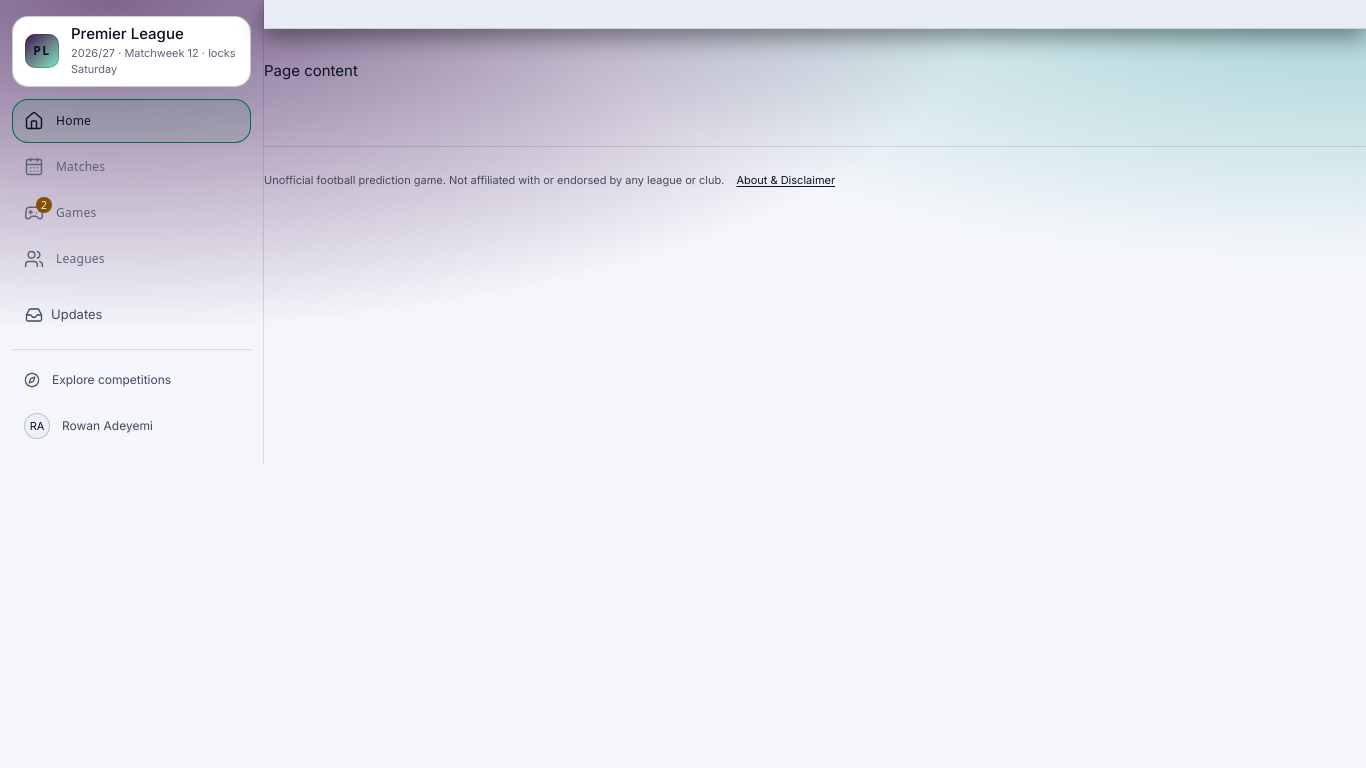
it: the Action Centre › says the inbox is empty once the server has said so
Click the button "Updates" at (132, 315), box 12,293 -> 251,337
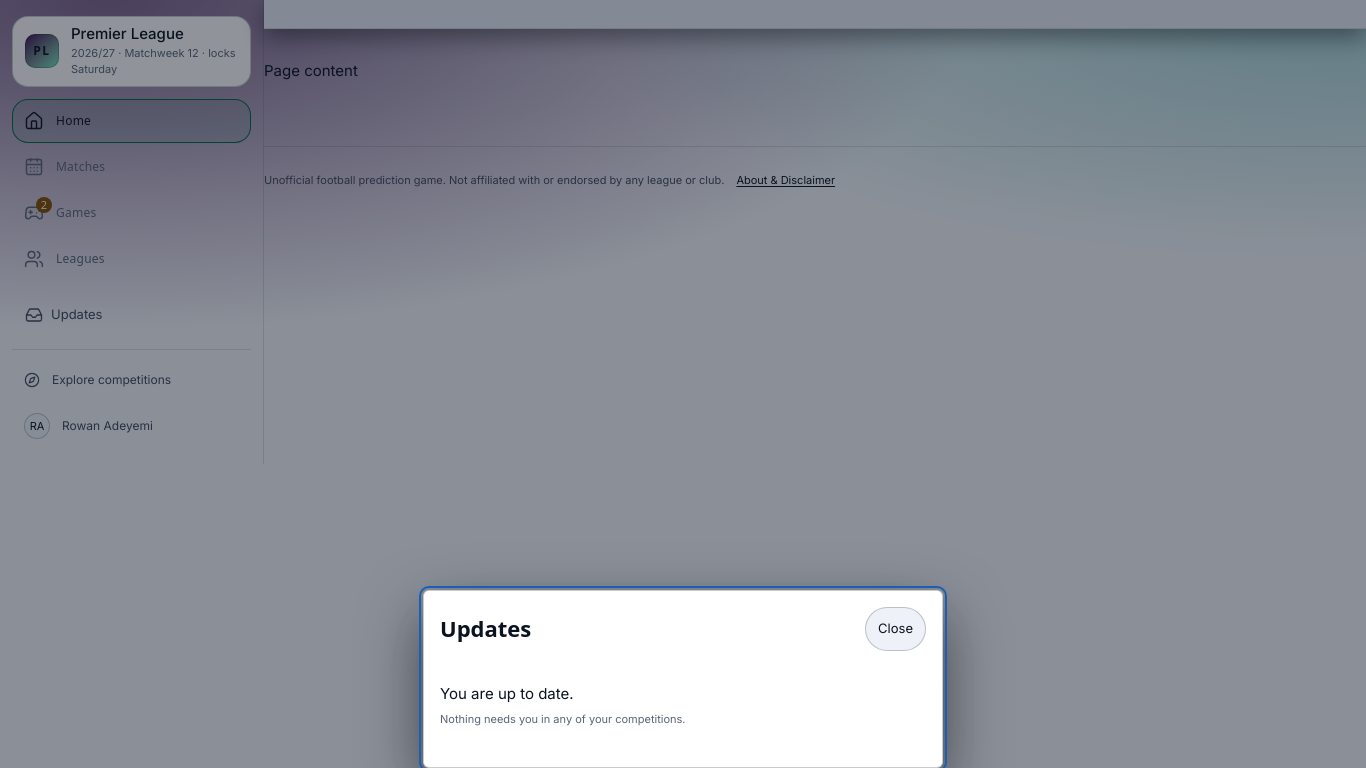
Now the text "You are up to date." is shown, box 440,683 -> 574,705
